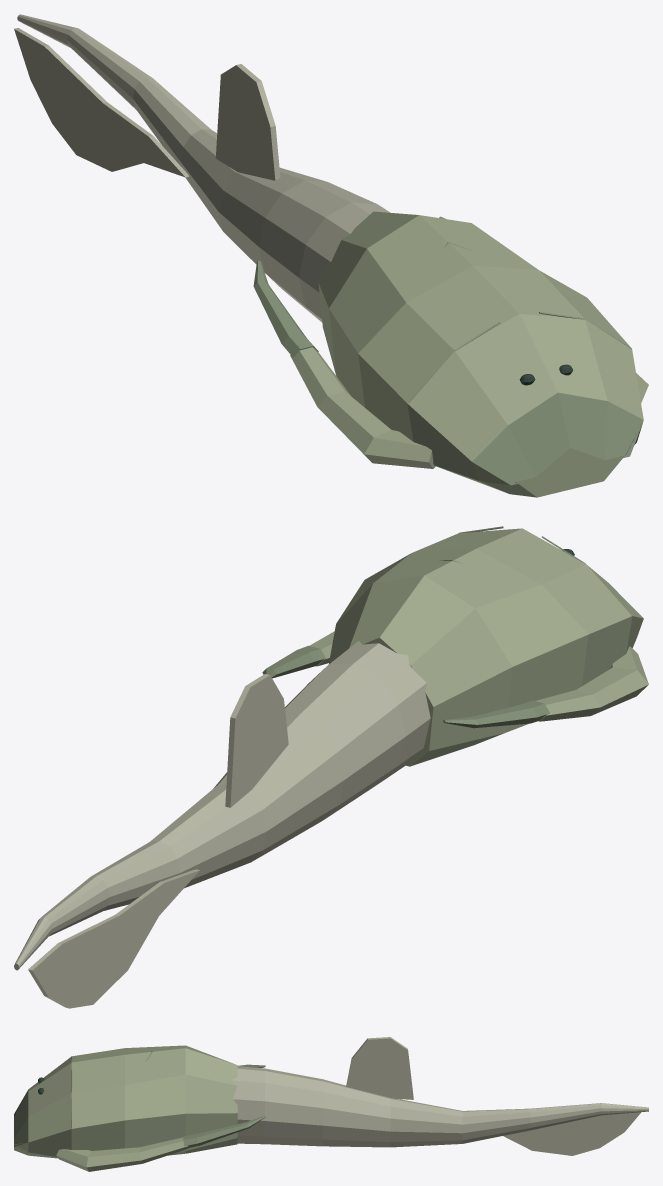
The model's file is bothriolepis.glb.
3 renders of one model, top to bottom at view 1: azimuth 30°, elevation 25°; view 2: azimuth 150°, elevation 25°; view 3: azimuth 270°, elevation 25°, orthographic. The views are drawn at different scales.
Parts seen in each view (by area): view 1: vaulted-cephalic-and-trunk-armor, long-soft-posterior-body, single-dorsal-and-caudal-web, paired-articulated-pectoral-armor; view 2: vaulted-cephalic-and-trunk-armor, long-soft-posterior-body, single-dorsal-and-caudal-web, paired-articulated-pectoral-armor; view 3: vaulted-cephalic-and-trunk-armor, long-soft-posterior-body, single-dorsal-and-caudal-web, paired-articulated-pectoral-armor.
Part boxes in pixels (box(x1,y1,x2,y2)): vaulted-cephalic-and-trunk-armor: box(318, 211, 643, 497); long-soft-posterior-body: box(17, 14, 390, 322); single-dorsal-and-caudal-web: box(14, 28, 280, 180); paired-articulated-pectoral-armor: box(253, 216, 648, 468); vaulted-cephalic-and-trunk-armor: box(328, 528, 643, 766); long-soft-posterior-body: box(14, 641, 430, 970); single-dorsal-and-caudal-web: box(28, 674, 288, 1008); paired-articulated-pectoral-armor: box(262, 631, 648, 728); vaulted-cephalic-and-trunk-armor: box(14, 1045, 237, 1158); long-soft-posterior-body: box(231, 1066, 648, 1147); single-dorsal-and-caudal-web: box(346, 1037, 640, 1155); paired-articulated-pectoral-armor: box(56, 1064, 265, 1171).
Bounding box in the file's own units: 0.1293 × 0.09 × 0.44.
